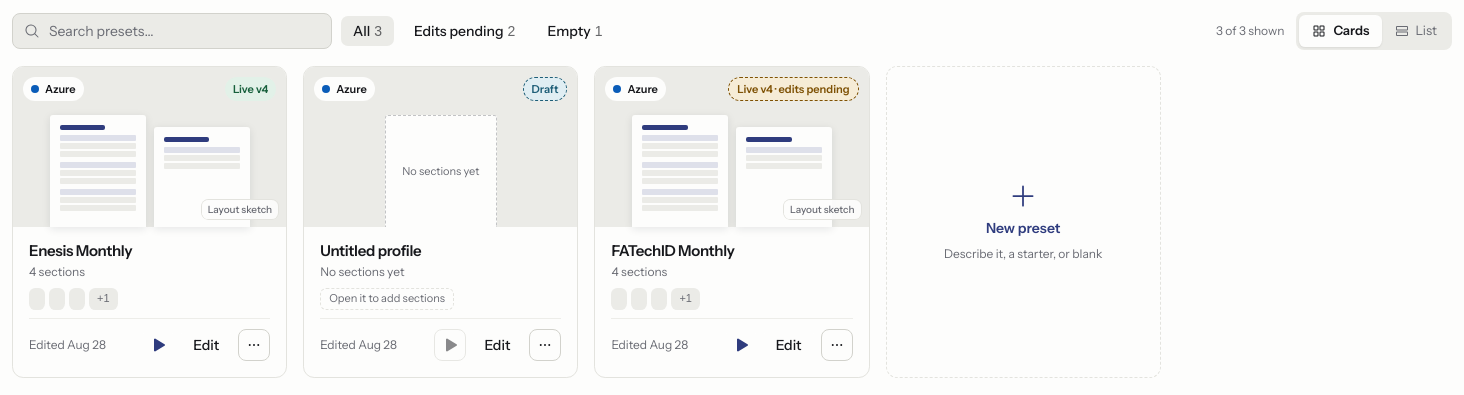
Scenario: narrowing the list › Edits pending keeps unpublished presets and pending edits, not a draft that matches its version
The width and height of the screenshot is (1464, 395).
Click the button "Edits pending 2" at (465, 31), box [401,15,528,47]
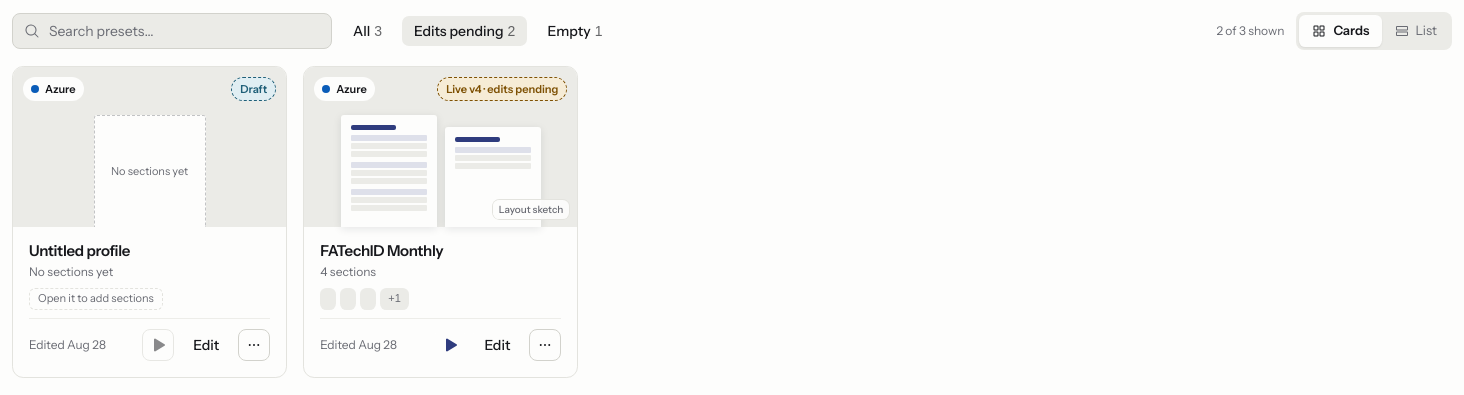
Expected: the link "Untitled profile" is shown, [29,241,130,260]
Expected: the link "Enesis Monthly" is gone
